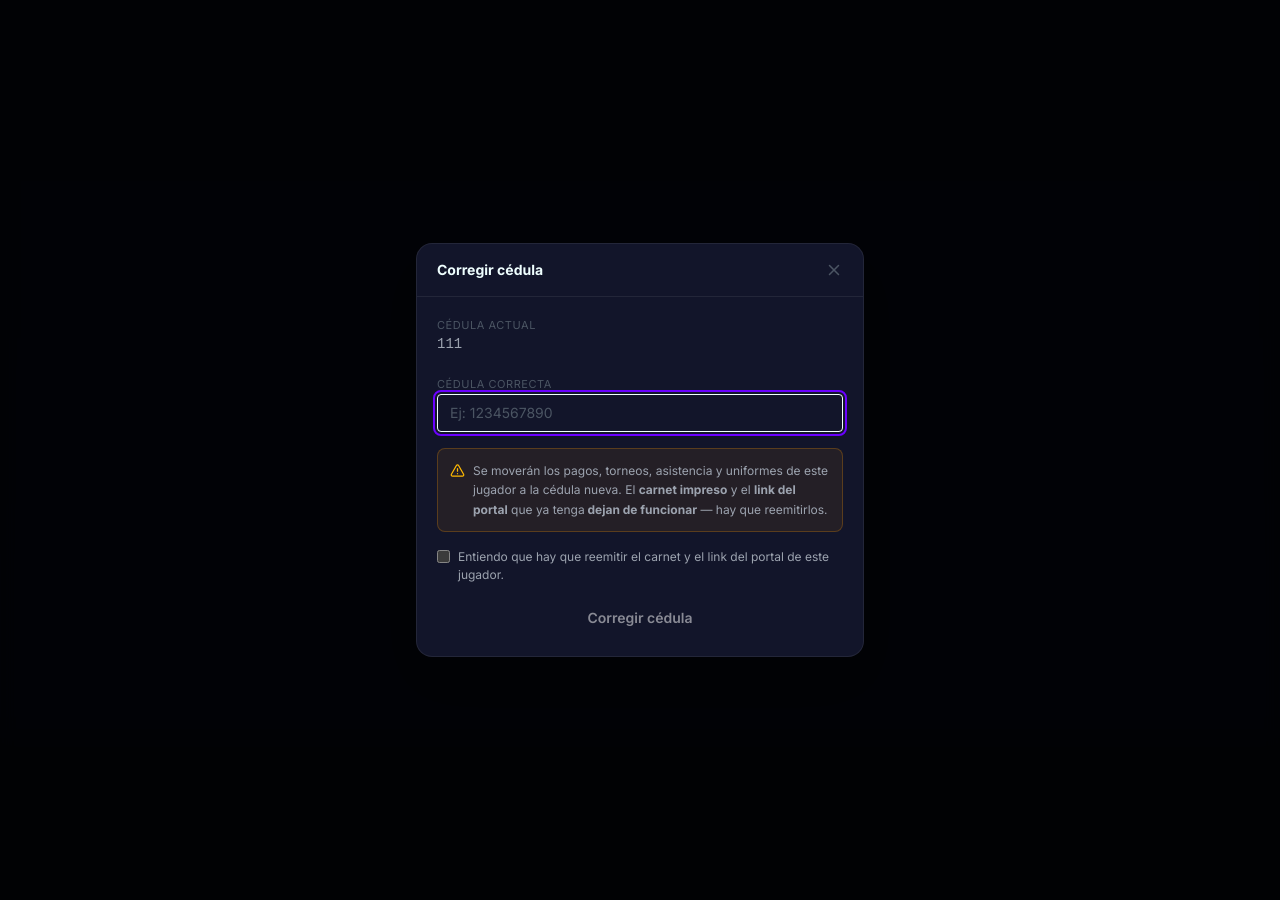
Test: CorregirCedulaModal › muestra el error del backend
Type "222" into the field with placeholder "Ej: 1234567890" at [640, 412], box [437,394,843,432]
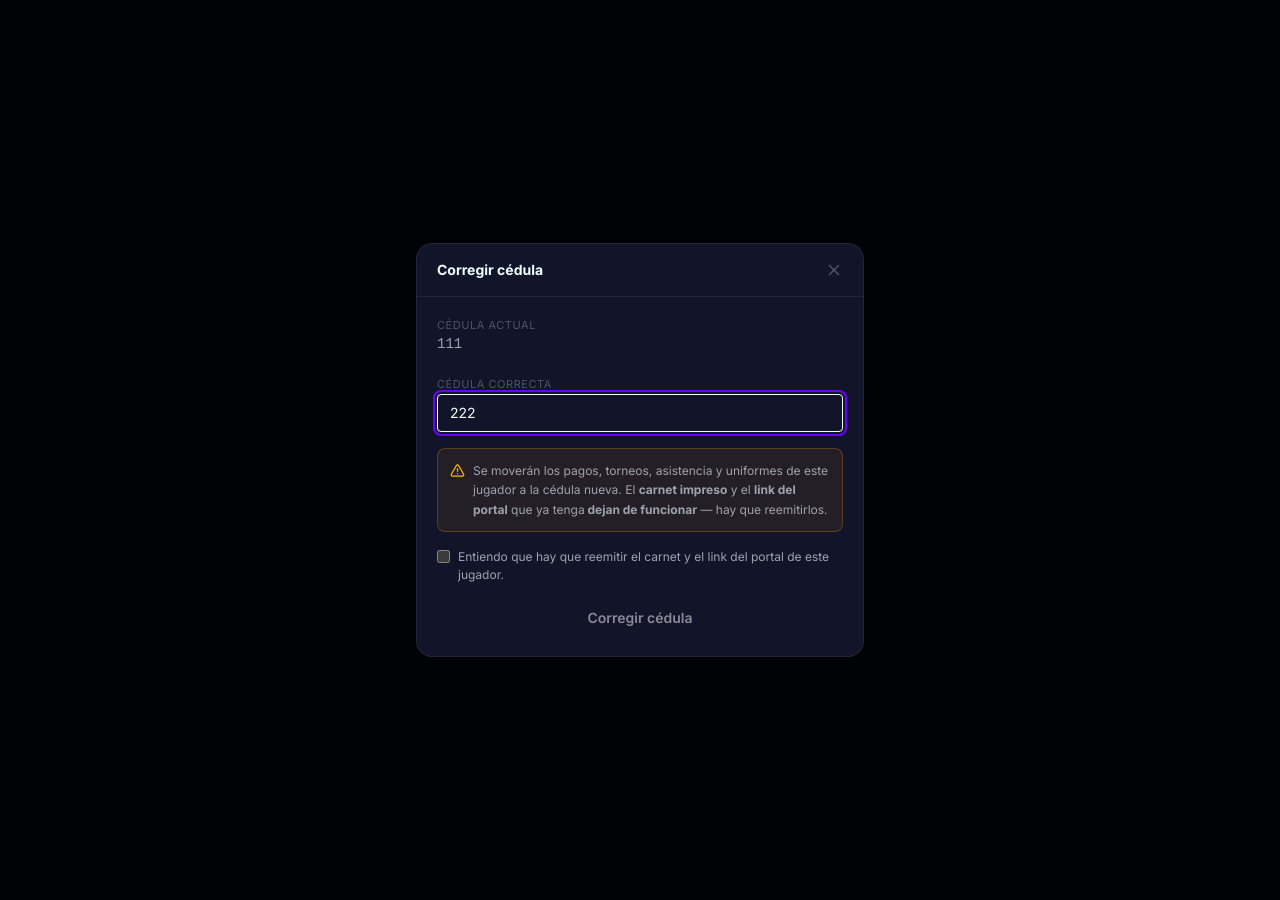
Click the checkbox at [444, 556], box [437,550,450,563]
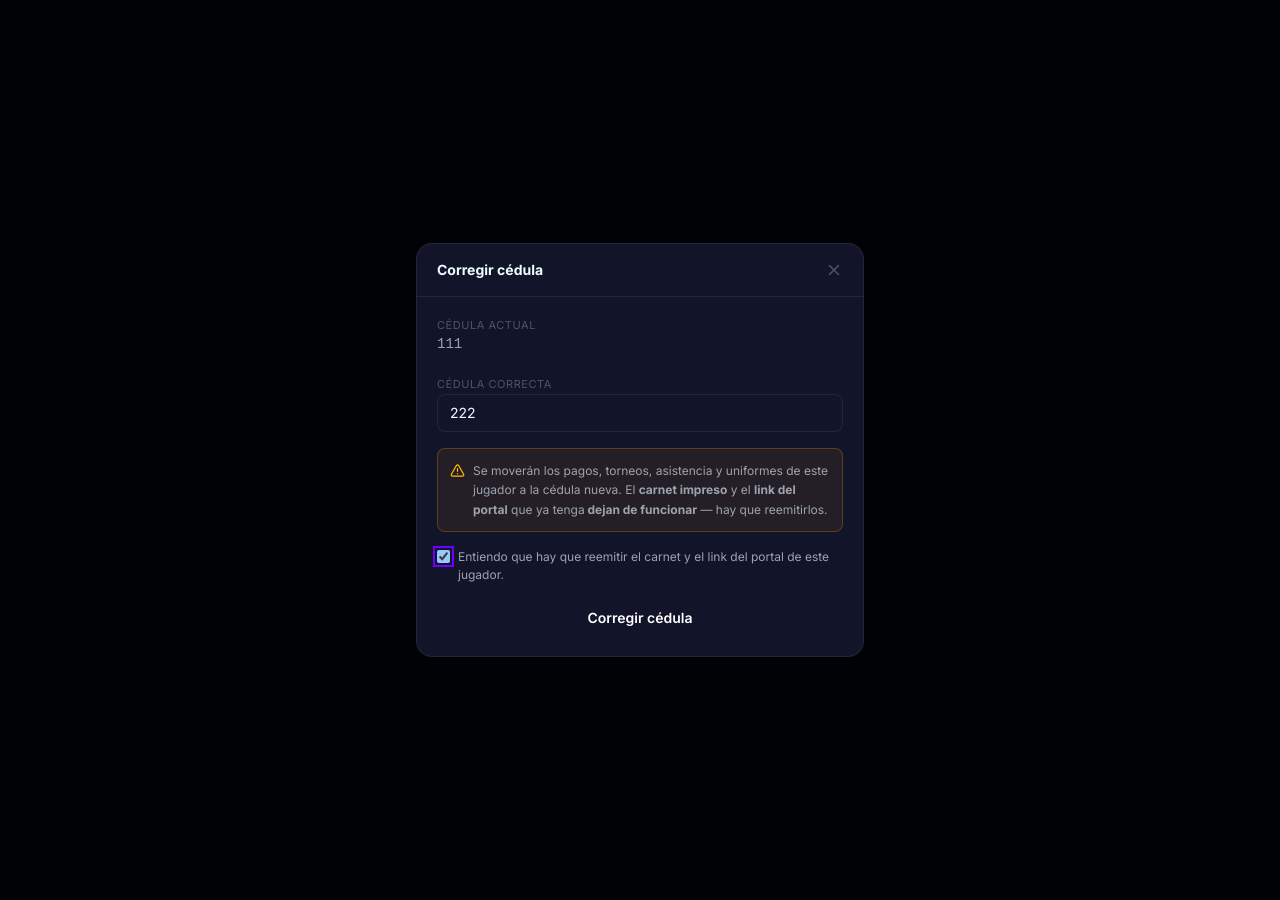
Click the button "Corregir cédula" at [640, 618], box [437,600,843,636]
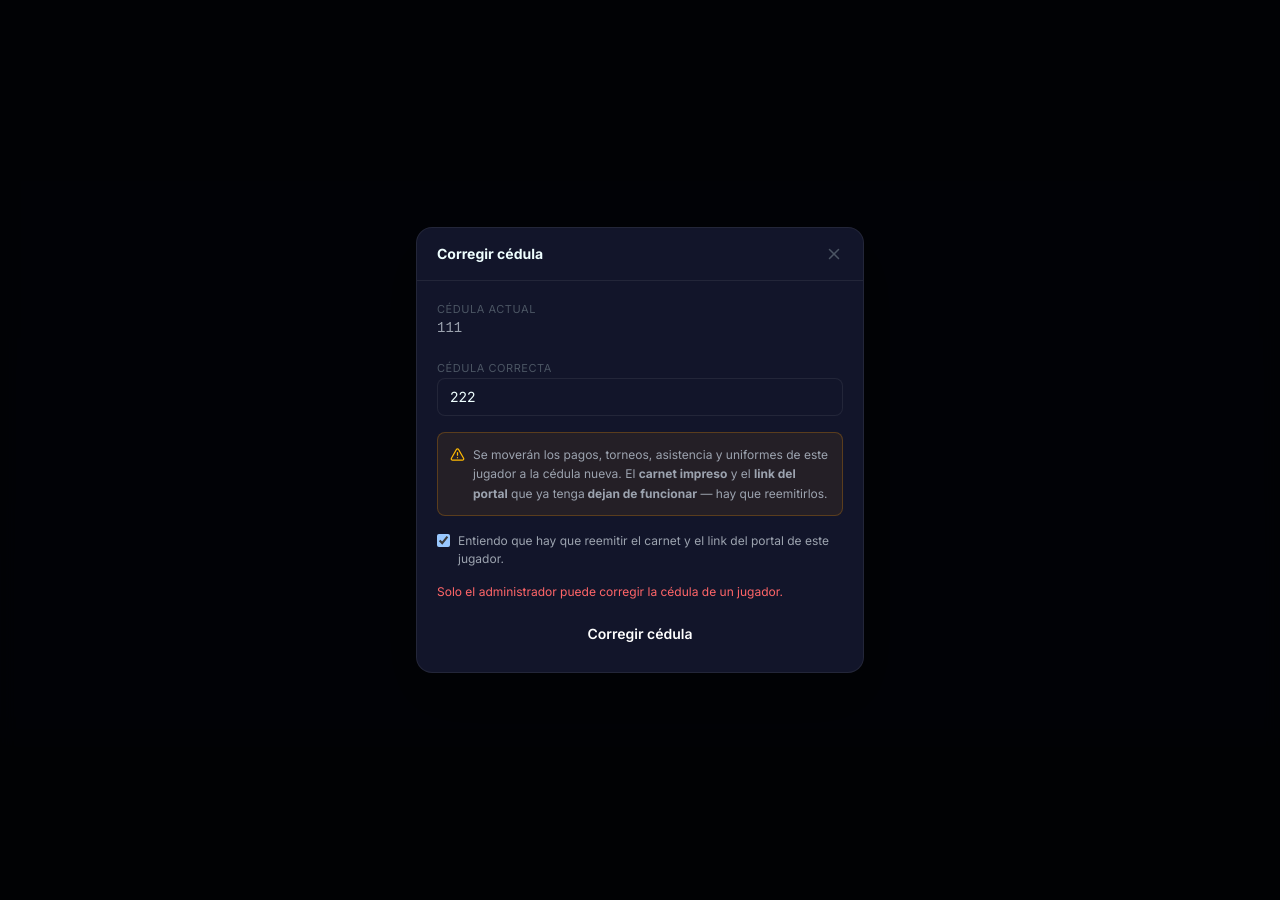
expect the text "Solo el administrador" is shown: met, box [437,584,783,599]
